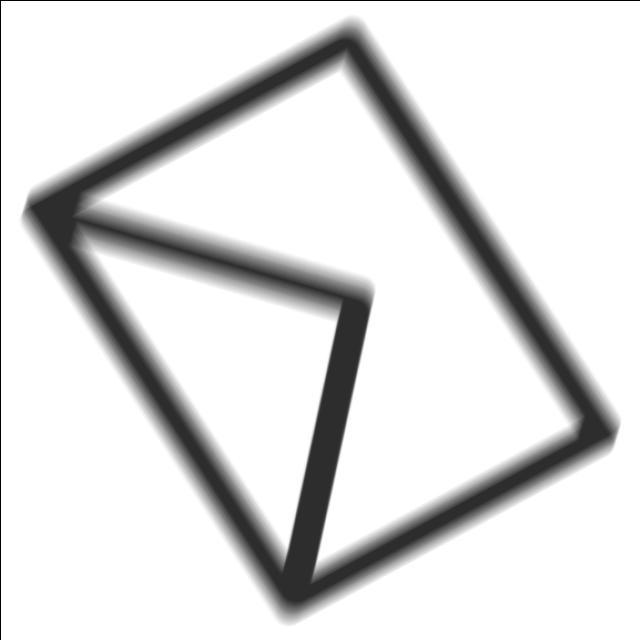letter: (8, 11, 634, 634)
